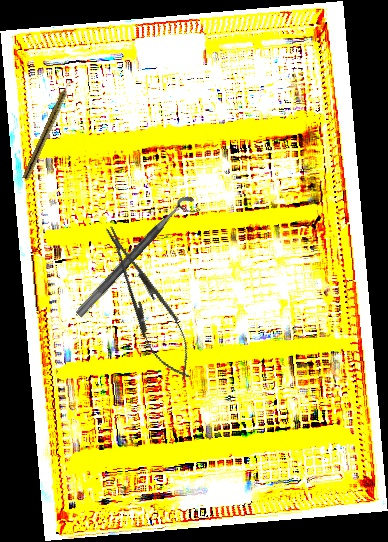Fixation Ring: (74, 192, 203, 327)
Handpiece: (22, 77, 75, 182)
Needle Holder: (91, 217, 205, 388)
